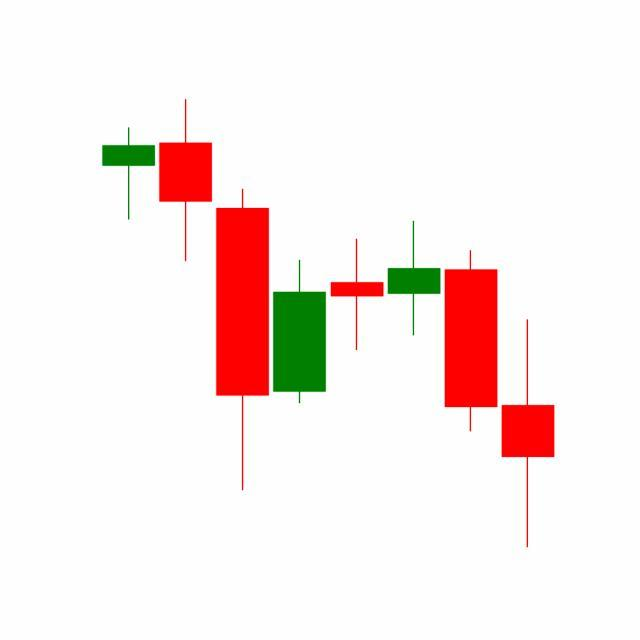Hikkake Pattern: (214, 187, 501, 495)
